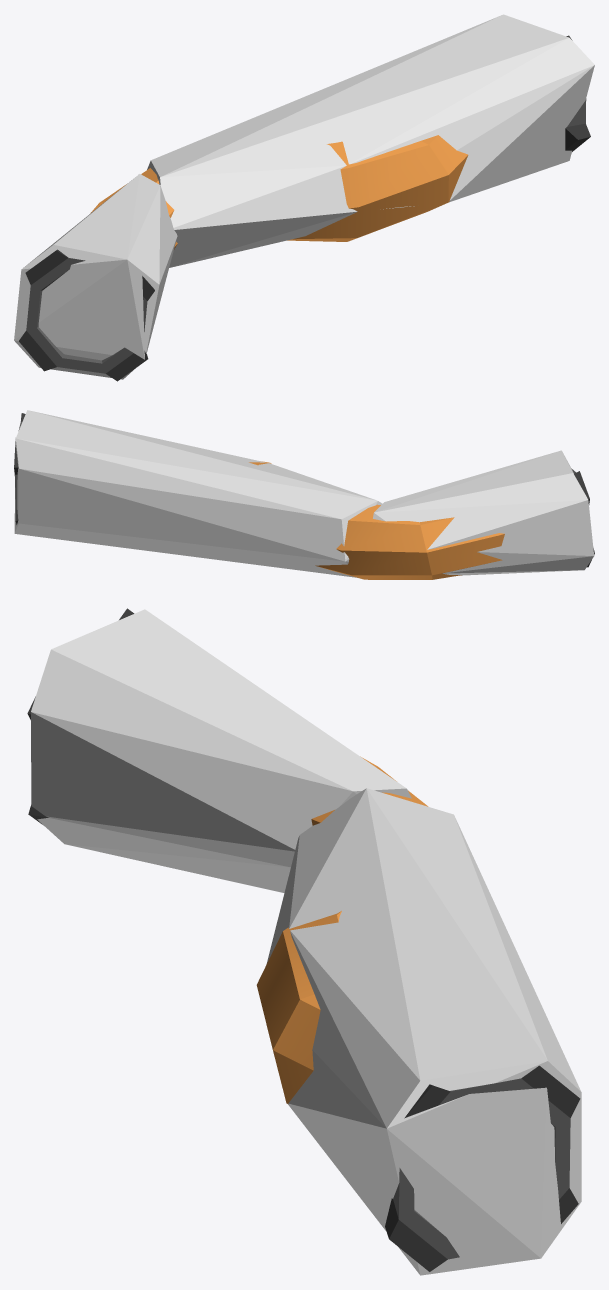
File: SM_Prop_Hose_04.fbx
The picture shows the model from 3 angles, top to bottom: view 1: azimuth 30°, elevation 25°; view 2: azimuth 150°, elevation 25°; view 3: azimuth 270°, elevation 25°; orthographic projection. The views are drawn at different scales.
Parts seen in each view (by area): view 1: SM_Prop_Hose_04_ConvexHulls, SM_Prop_Hose_04_LOD0; view 2: SM_Prop_Hose_04_ConvexHulls, SM_Prop_Hose_04_LOD0; view 3: SM_Prop_Hose_04_ConvexHulls, SM_Prop_Hose_04_LOD0.
Part boxes in pixels (bbox=[...]): SM_Prop_Hose_04_ConvexHulls: bbox=[14, 14, 594, 379]; SM_Prop_Hose_04_LOD0: bbox=[19, 35, 590, 381]; SM_Prop_Hose_04_ConvexHulls: bbox=[14, 410, 594, 577]; SM_Prop_Hose_04_LOD0: bbox=[14, 413, 594, 579]; SM_Prop_Hose_04_ConvexHulls: bbox=[31, 609, 581, 1275]; SM_Prop_Hose_04_LOD0: bbox=[27, 608, 580, 1271].
Bounding box in the file's own units: 75.9 × 163 × 30.36.
Materials: 1 (1 with a texture image).
